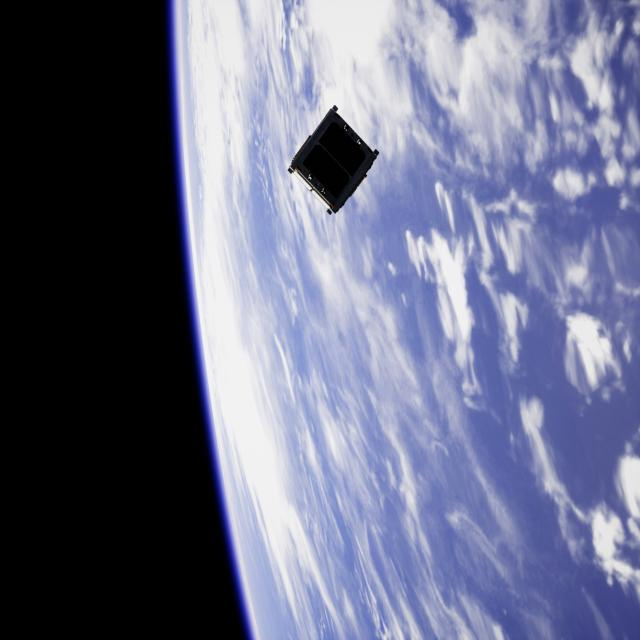medium_debris: (292, 108, 384, 211)
